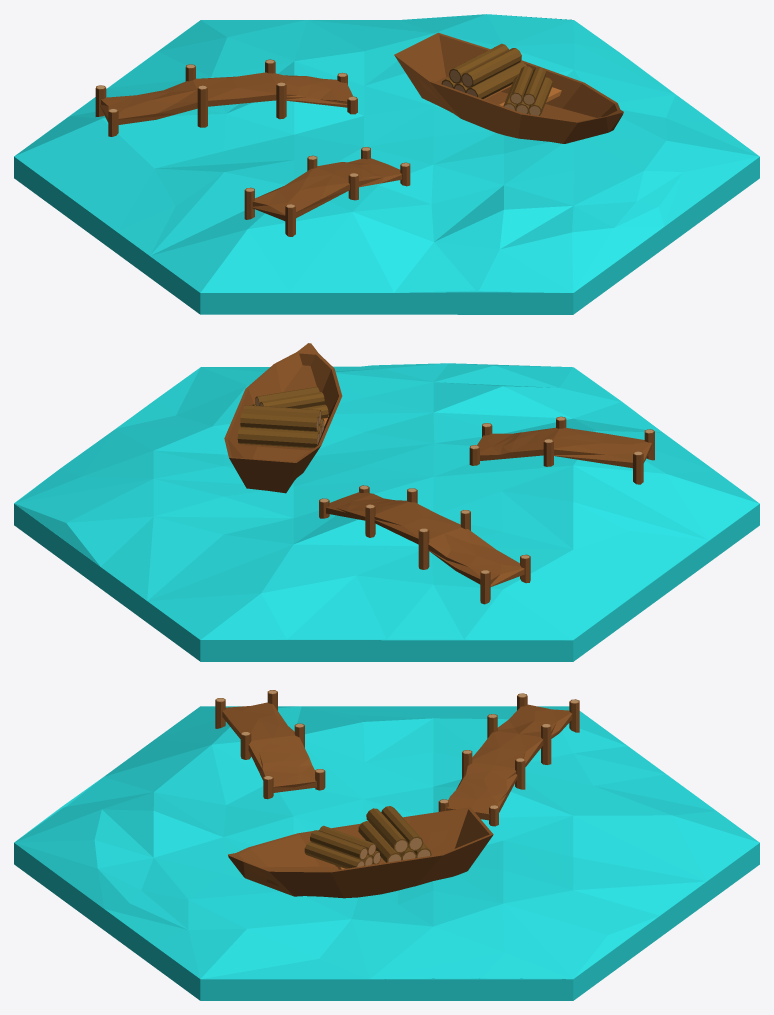
Rendered from woodPort.fbx.
The picture shows the model from 3 angles, top to bottom: view 1: azimuth 30°, elevation 25°; view 2: azimuth 150°, elevation 25°; view 3: azimuth 270°, elevation 25°; orthographic projection.
Parts seen in each view (by area): view 1: Cylinder.010; view 2: Cylinder.010; view 3: Cylinder.010.
Part boxes in pixels (x1,y1,x2,y2): Cylinder.010: (14, 14, 759, 314); Cylinder.010: (14, 343, 759, 661); Cylinder.010: (14, 690, 759, 1000).
Size of the model in its own units: 173 by 27.23 by 200.
